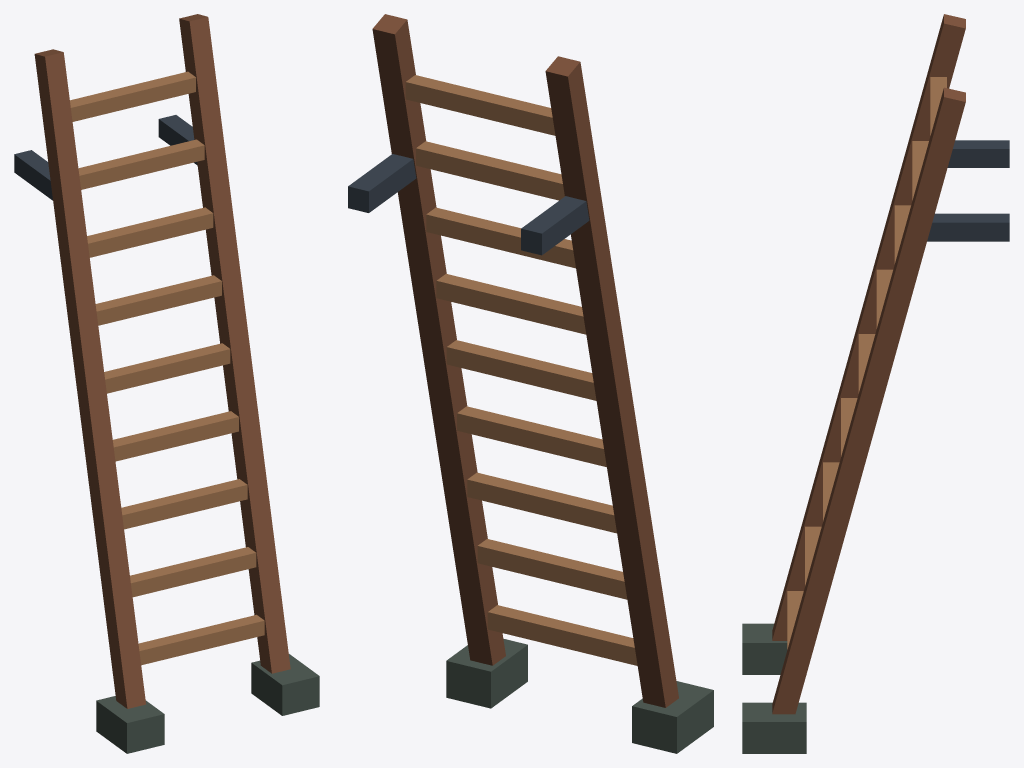
The model's file is ladder_up.glb.
The picture shows the model from 3 angles, left to right: view 1: azimuth 30°, elevation 25°; view 2: azimuth 150°, elevation 25°; view 3: azimuth 270°, elevation 25°; orthographic projection. The views are drawn at different scales.
Parts seen in each view (by area): view 1: geometry; view 2: geometry; view 3: geometry.
Boxes of the visible parts, box(x1,y1,x2,y2) form: geometry: box(14, 14, 319, 753); geometry: box(348, 14, 713, 753); geometry: box(742, 14, 1009, 753).
Bounding box in the file's own units: 0.72 × 2.22 × 0.83.
